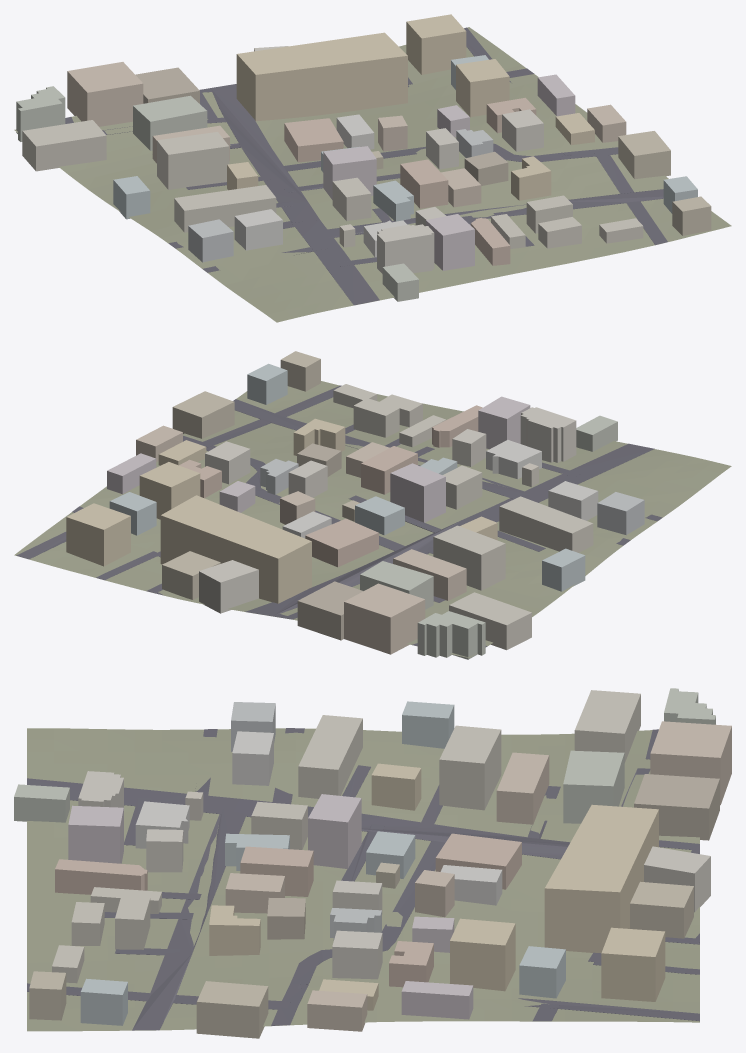
The model's file is chunk_2_1.glb.
3 views of the same model, one above another, from view 1: azimuth 30°, elevation 25°; view 2: azimuth 150°, elevation 25°; view 3: azimuth 270°, elevation 25° (orthographic). The views are drawn at different scales.
Parts seen in each view (by area): view 1: geometry_52, geometry_51, geometry_27, geometry_81, geometry_32, geometry_9, geometry_23, geometry_4, geometry_14, geometry_35, geometry_3, geometry_46 (+40 smaller); view 2: geometry_52, geometry_51, geometry_27, geometry_4, geometry_23, geometry_32, geometry_21, geometry_9, geometry_13, geometry_2, geometry_3, geometry_1 (+44 smaller); view 3: geometry_52, geometry_51, geometry_54, geometry_32, geometry_23, geometry_27, geometry_24, geometry_35, geometry_4, geometry_19, geometry_14, geometry_9 (+45 smaller).
Part boxes in pixels (x1,y1,x2,y2): geometry_52: (14,27,731,322); geometry_51: (236,32,407,121); geometry_27: (67,62,143,126); geometry_81: (210,84,319,222); geometry_32: (157,132,229,189); geometry_9: (22,120,106,171); geometry_23: (406,14,466,74); geometry_4: (174,185,276,232); geometry_14: (133,95,207,150); geometry_35: (456,59,509,117); geometry_3: (377,224,434,273); geometry_46: (426,214,474,270); geometry_52: (14,381,731,657); geometry_51: (160,495,311,603); geometry_27: (344,583,425,654); geometry_4: (499,496,593,552); geometry_23: (66,503,130,566); geometry_32: (433,525,505,590); geometry_21: (417,611,485,659); geometry_9: (449,592,531,650); geometry_13: (390,463,445,522); geometry_2: (199,560,258,613); geometry_3: (520,407,576,462); geometry_1: (305,518,378,567); geometry_52: (27,728,699,1031); geometry_51: (544,804,658,952); geometry_54: (132,808,246,1030); geometry_32: (439,725,501,810); geometry_23: (601,927,665,1001); geometry_27: (650,721,731,805); geometry_24: (634,774,719,840); geometry_35: (450,918,515,991); geometry_4: (298,715,362,798); geometry_19: (196,981,268,1038); geometry_14: (563,750,624,823); geometry_9: (574,690,640,762).
Size of the model in its own units: 269 by 27.86 by 267.
